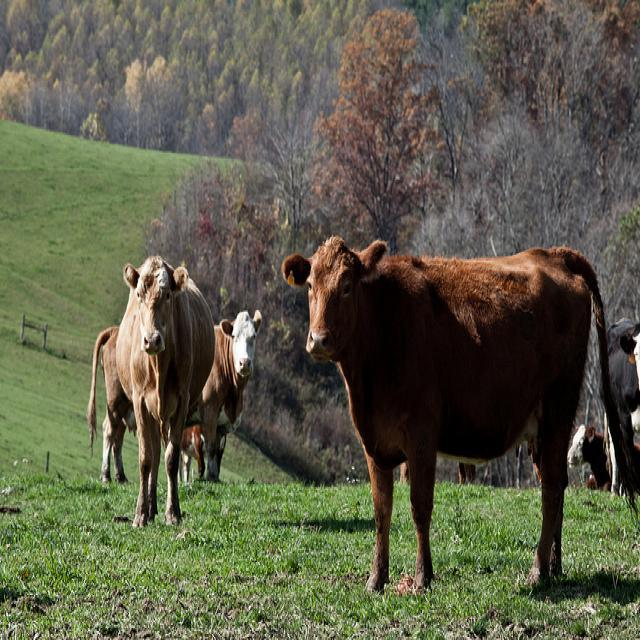cow: (283, 238, 639, 589), (85, 307, 260, 481), (113, 252, 215, 529), (565, 421, 638, 492), (612, 319, 639, 483), (178, 423, 225, 483), (457, 459, 476, 481)
